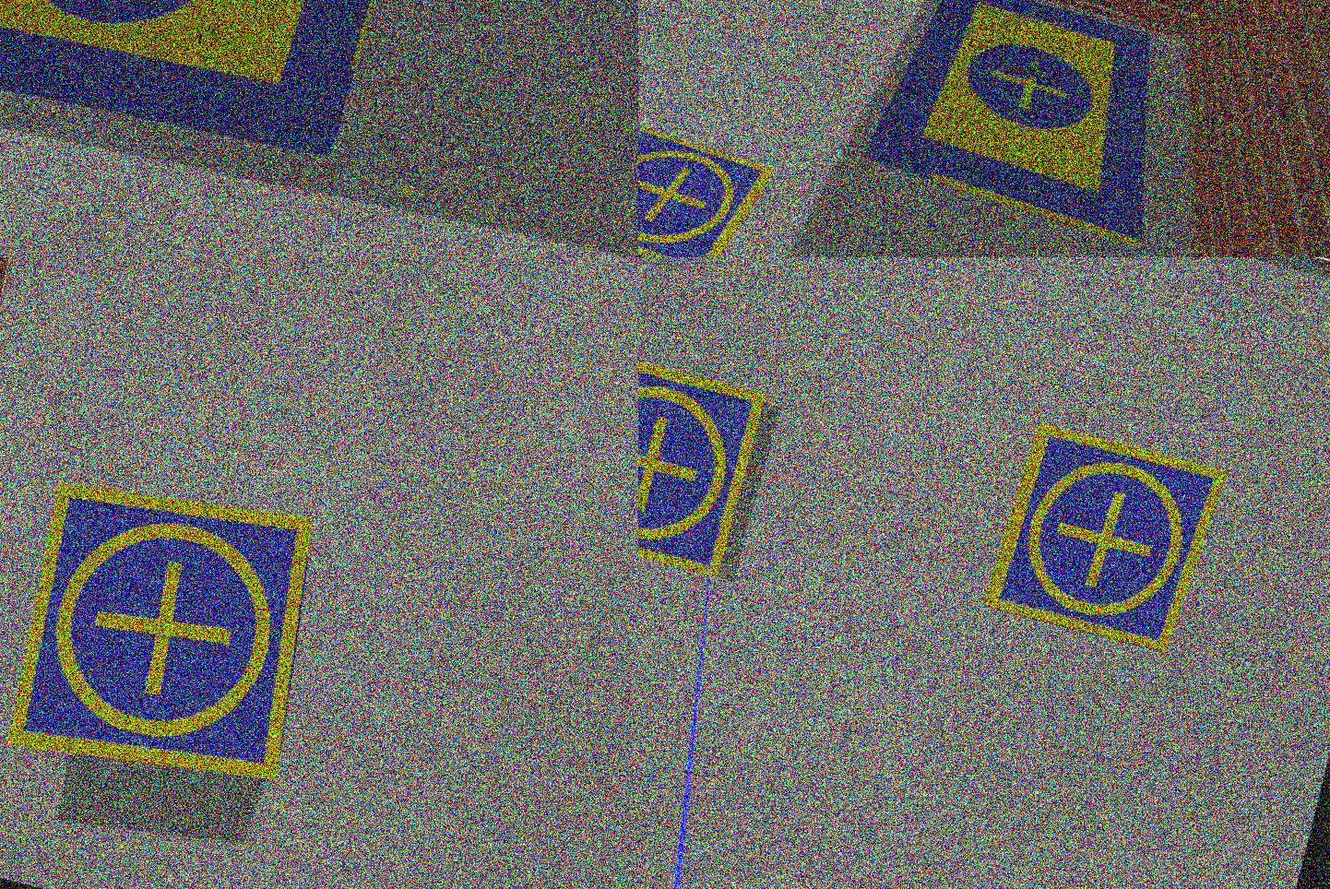large_base: (861, 1, 1197, 247), (1, 1, 421, 175)
small_base: (1, 454, 349, 817), (977, 417, 1231, 661), (639, 341, 777, 584), (639, 113, 780, 258)
